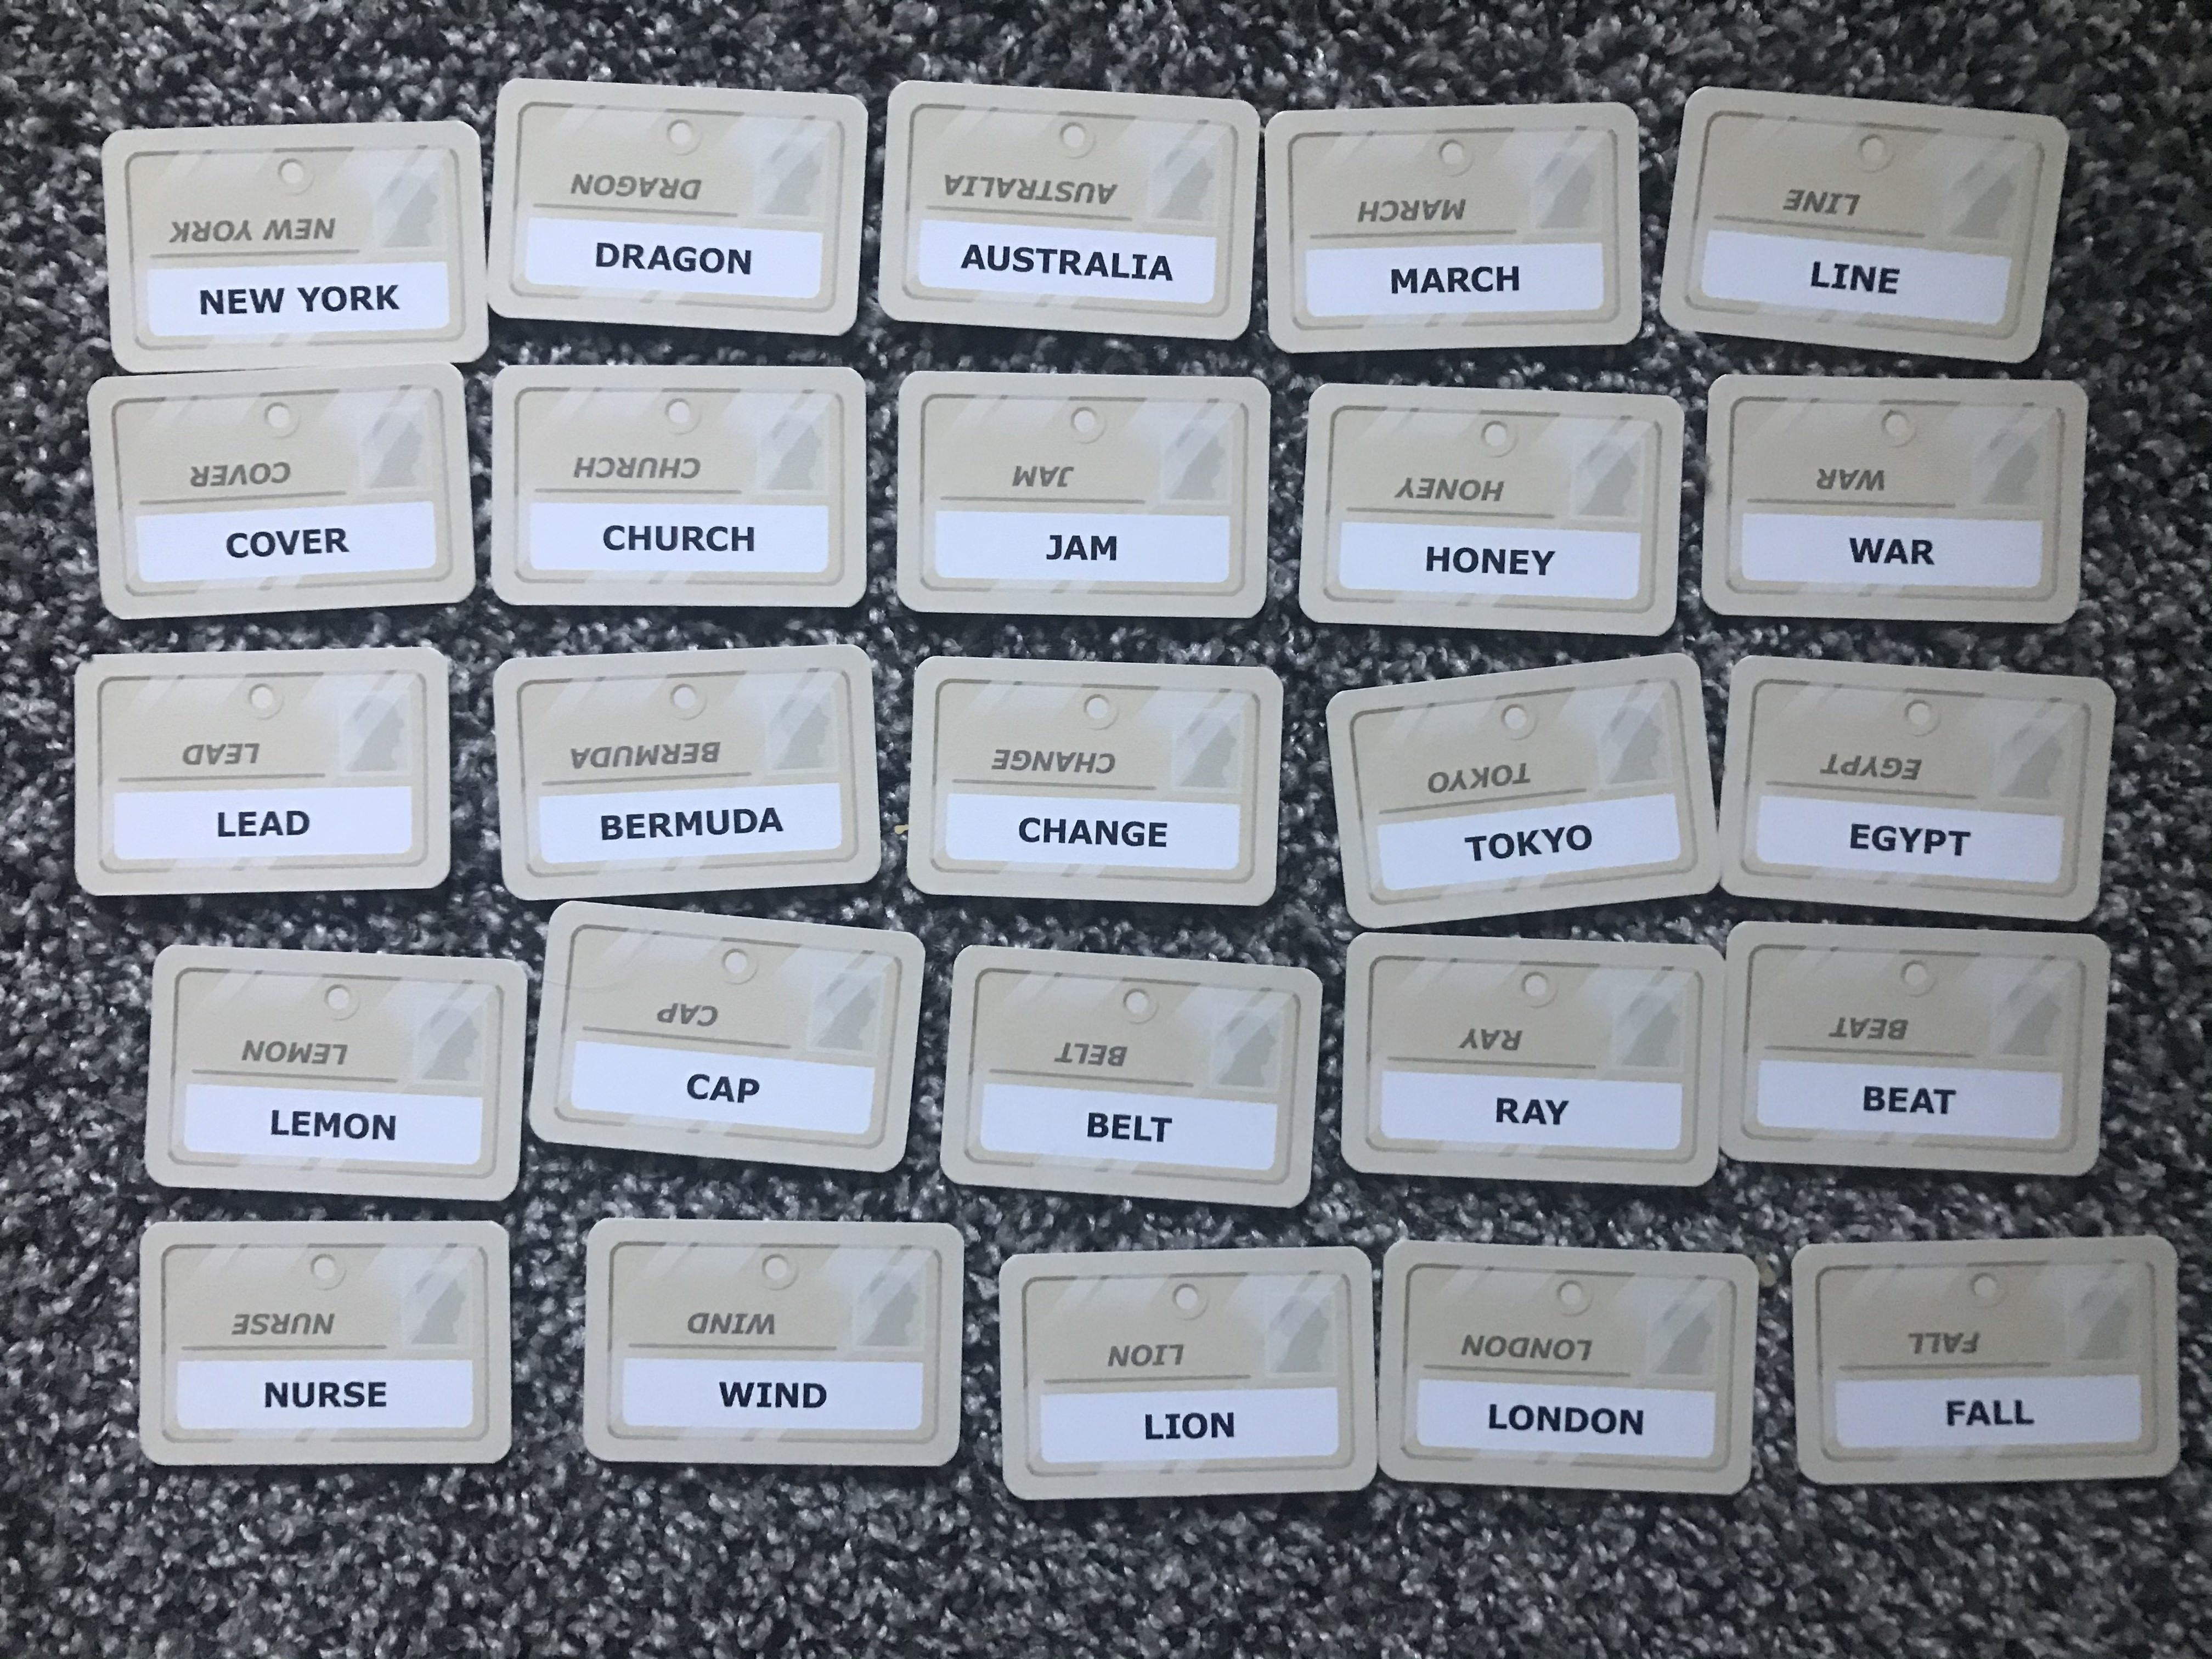A: (1963, 1391, 1994, 1438), (1066, 812, 1099, 854), (1420, 263, 1447, 310), (1061, 526, 1090, 570), (960, 239, 989, 281), (646, 239, 672, 286), (1881, 532, 1909, 573), (1909, 1082, 1937, 1124), (258, 803, 282, 847), (1146, 251, 1176, 286), (1524, 1091, 1547, 1136), (758, 802, 784, 838), (711, 1068, 733, 1110), (1085, 247, 1108, 286)
